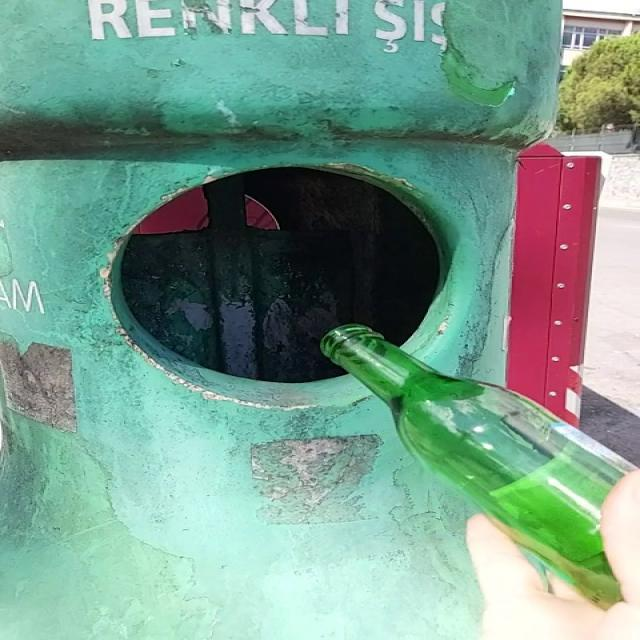glass: (321, 324, 636, 608)
